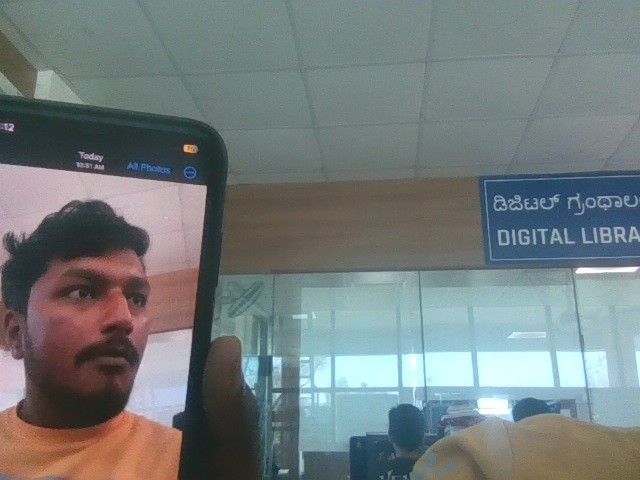fake: (11, 180, 179, 418)
